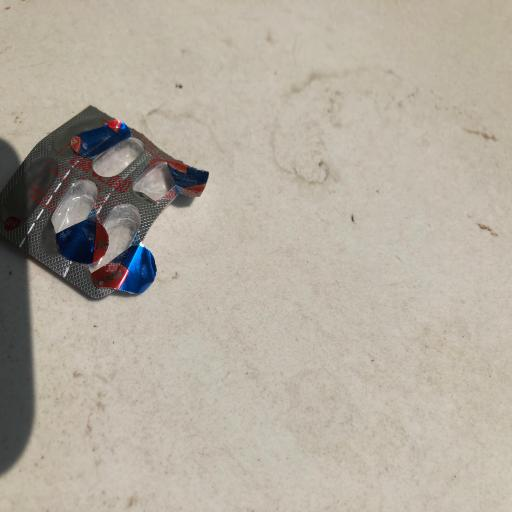waste: (0, 80, 218, 330)
